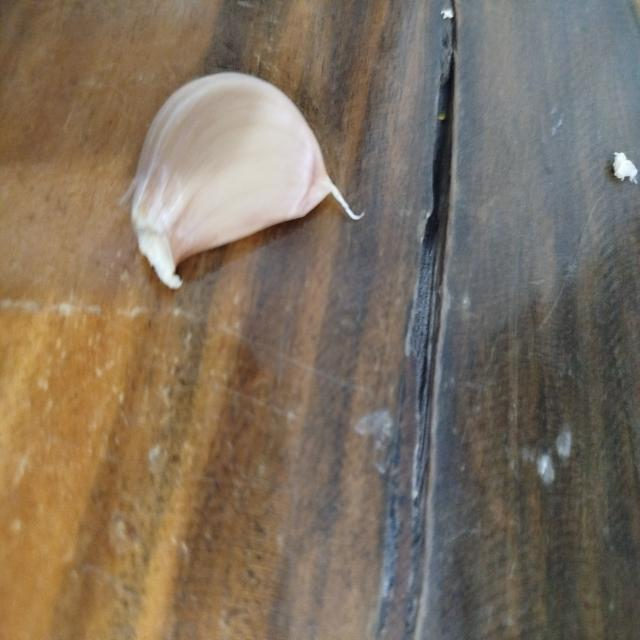garlic: (119, 70, 365, 291)
